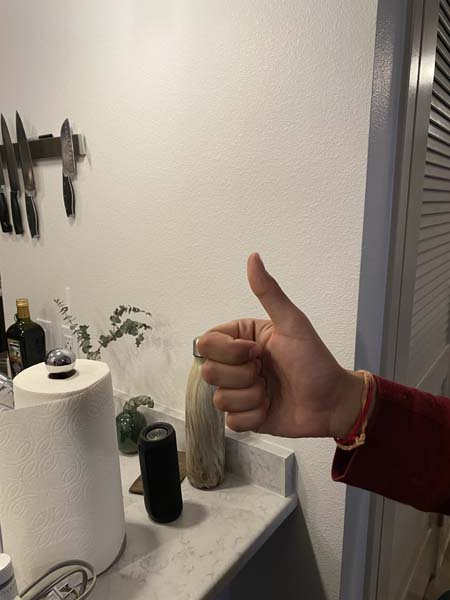Thumbs Up: (194, 244, 344, 499)
